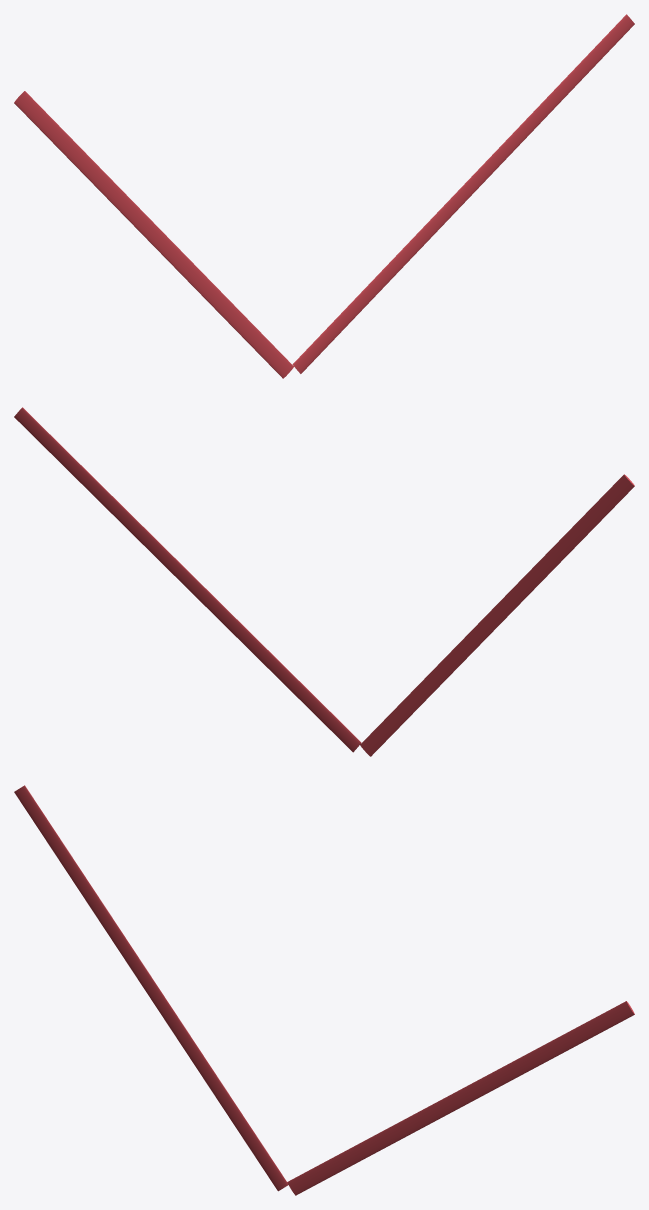
The model's file is Laserbeam.glb.
3 renders of one model, top to bottom at view 1: azimuth 30°, elevation 25°; view 2: azimuth 150°, elevation 25°; view 3: azimuth 330°, elevation 25°, orthographic.
Bounding box in the file's own units: 0.052 × 0.0278 × 0.000983.
